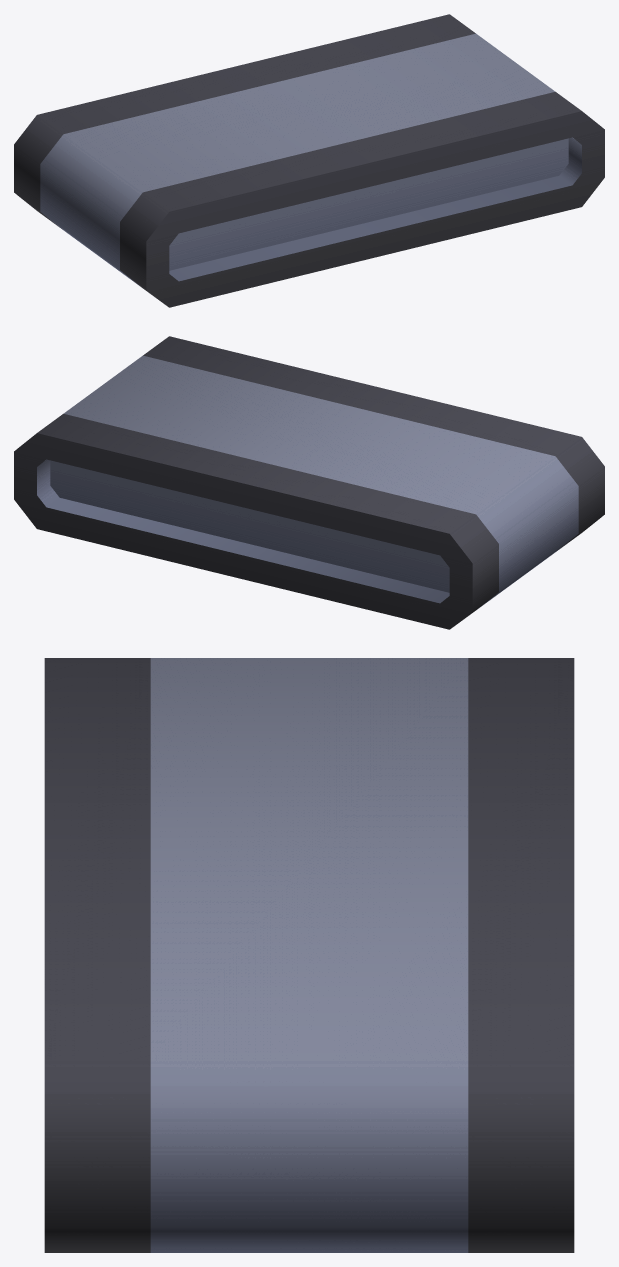
File: conveyor-long-stripe.glb
3 views of the same model, one above another, from view 1: azimuth 30°, elevation 25°; view 2: azimuth 150°, elevation 25°; view 3: azimuth 270°, elevation 25° (orthographic). The views are drawn at different scales.
Visible parts, largest first — view 1: conveyor-long-stripe; view 2: conveyor-long-stripe; view 3: conveyor-long-stripe.
Boxes of the visible parts, bbox=[...] form: conveyor-long-stripe: bbox=[14, 14, 604, 307]; conveyor-long-stripe: bbox=[14, 336, 604, 629]; conveyor-long-stripe: bbox=[44, 658, 574, 1252].
Bounding box in the file's own units: 2 × 0.4 × 1.
1 material, 1 textured.
